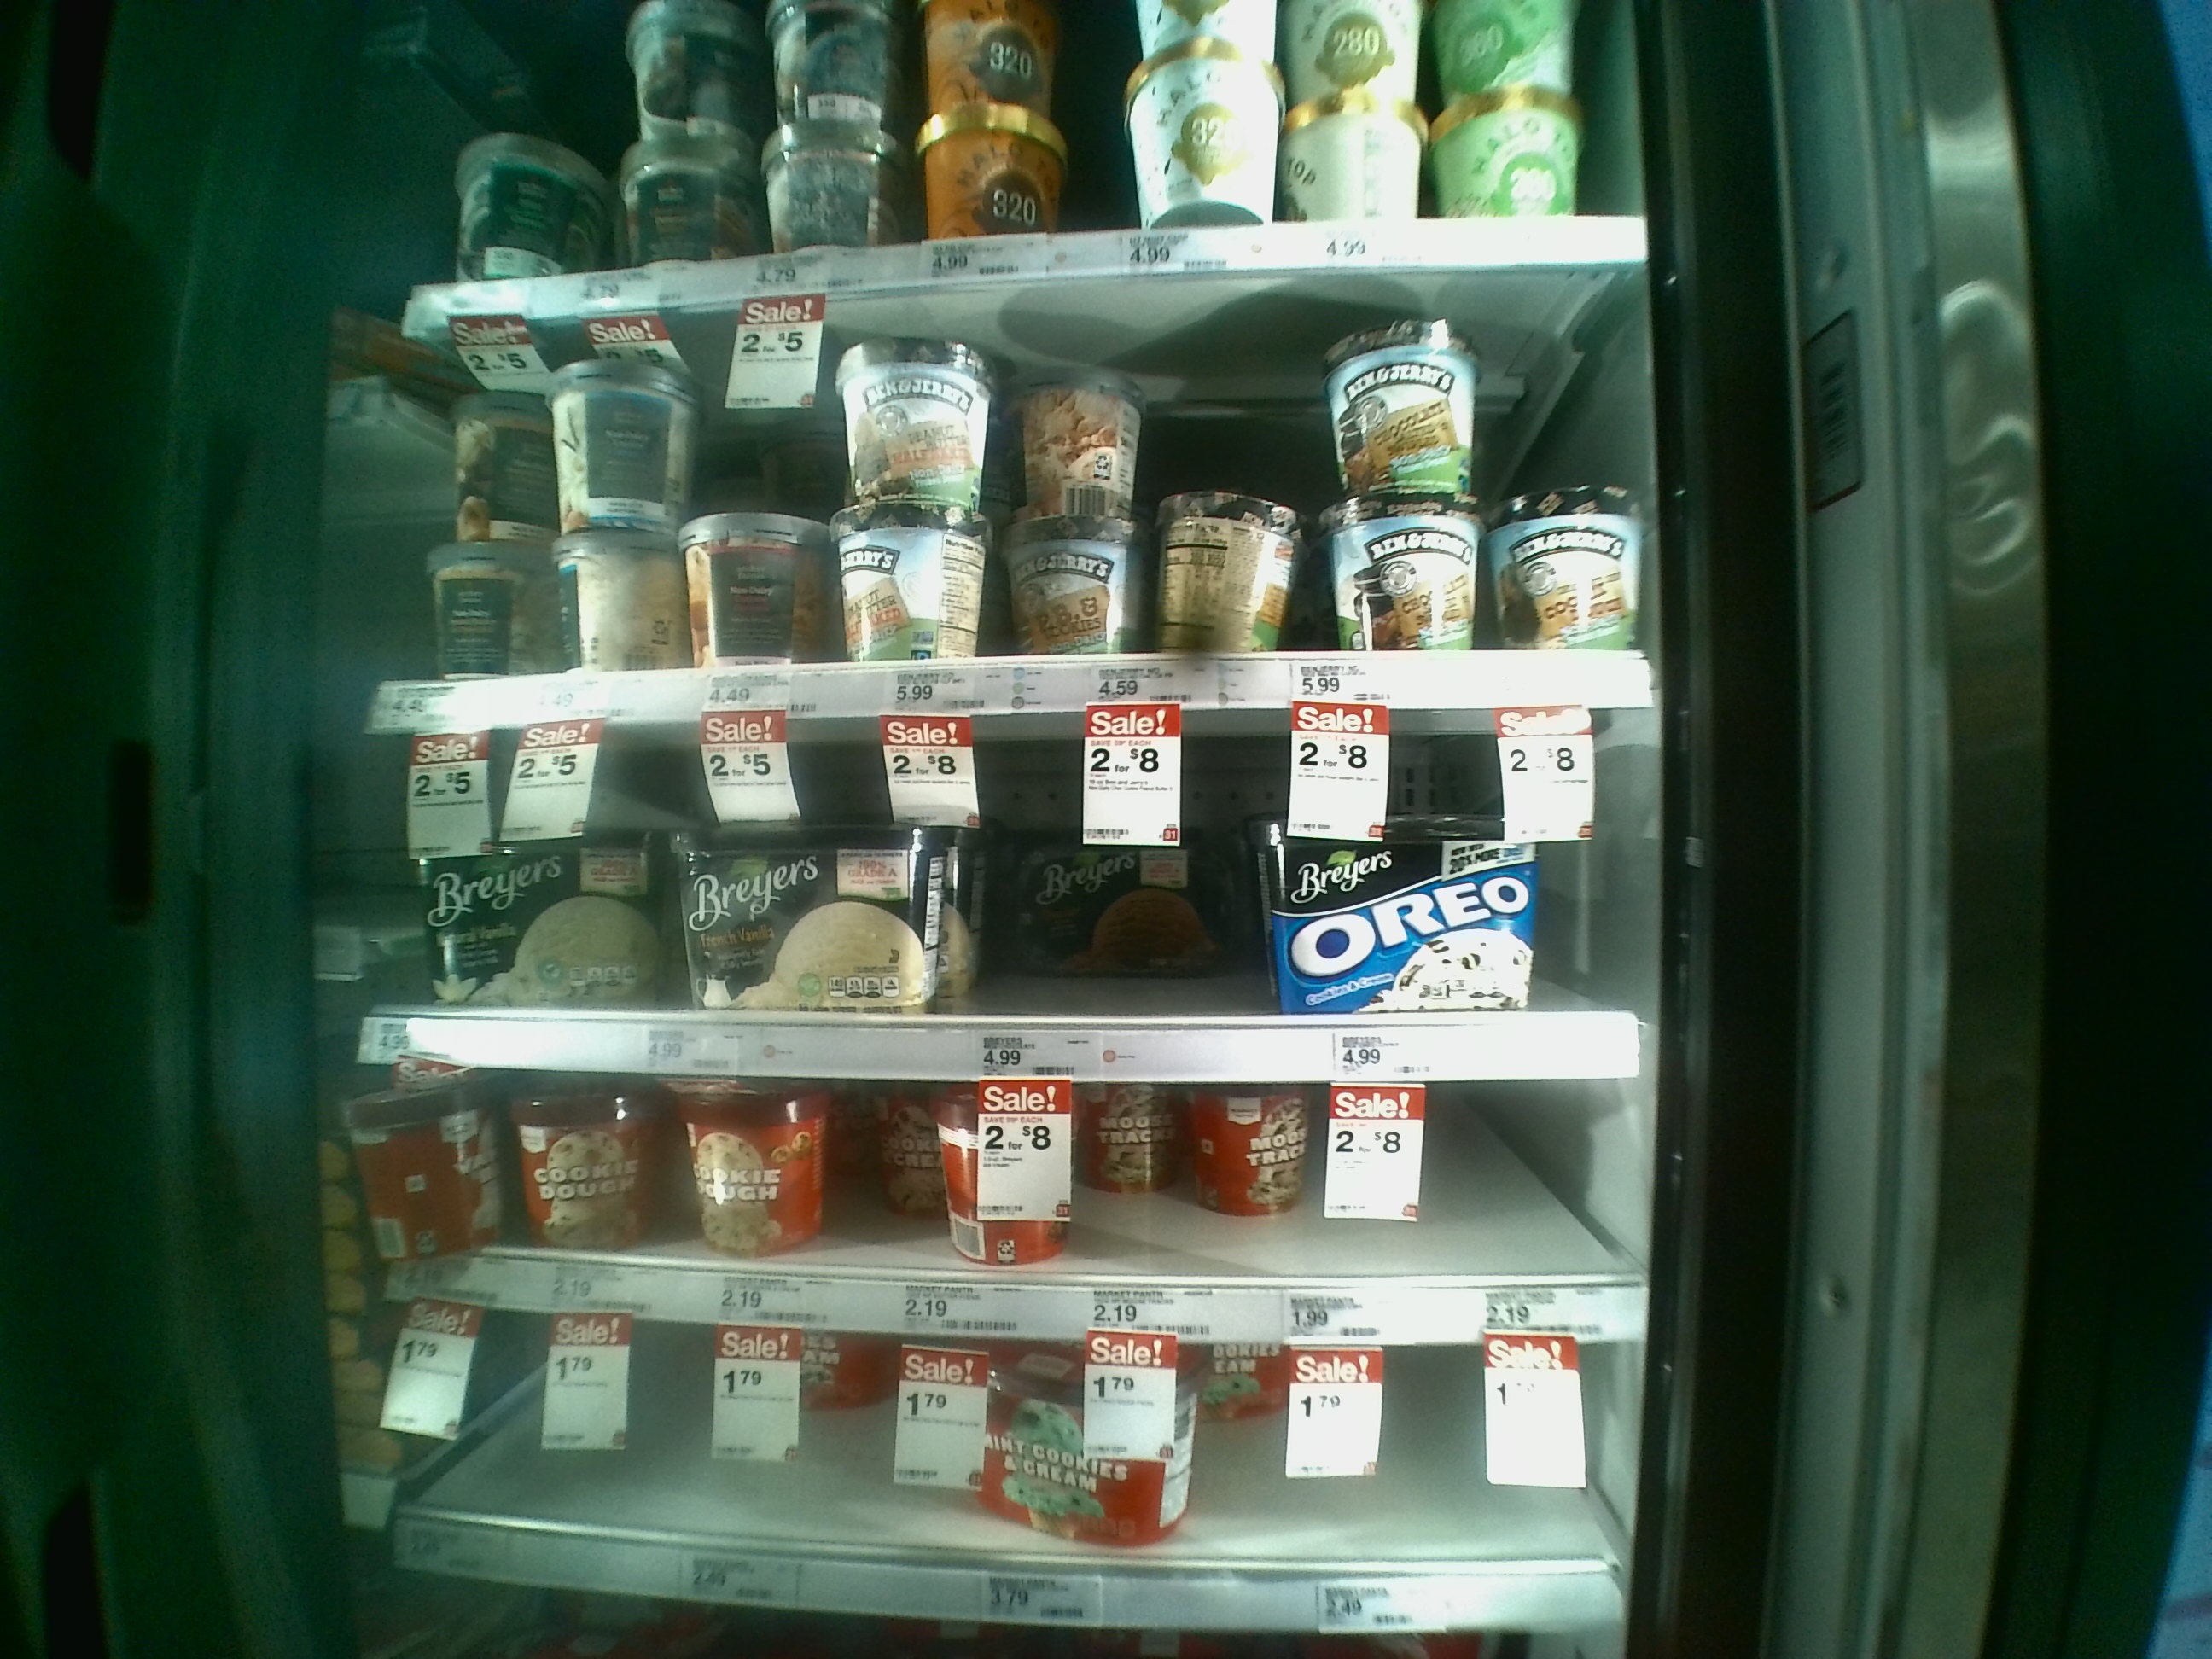ice-cream-shelf: (394, 267, 1662, 713), (387, 706, 1667, 1086), (388, 1303, 1658, 1659), (366, 1070, 1676, 1338)
